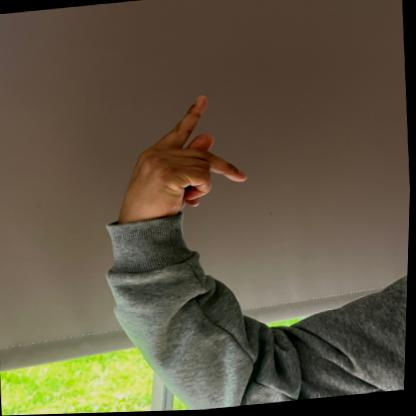K: (101, 86, 260, 236)
